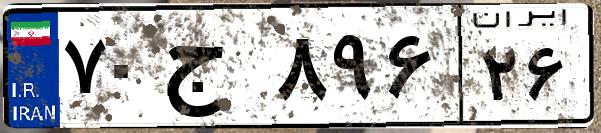0: (110, 28, 158, 98)
2: (475, 38, 525, 113)
6: (385, 28, 445, 110), (525, 38, 570, 115)
7: (57, 26, 110, 100)
8: (270, 28, 330, 110)
9: (330, 28, 385, 110)
ج: (158, 20, 270, 120)
